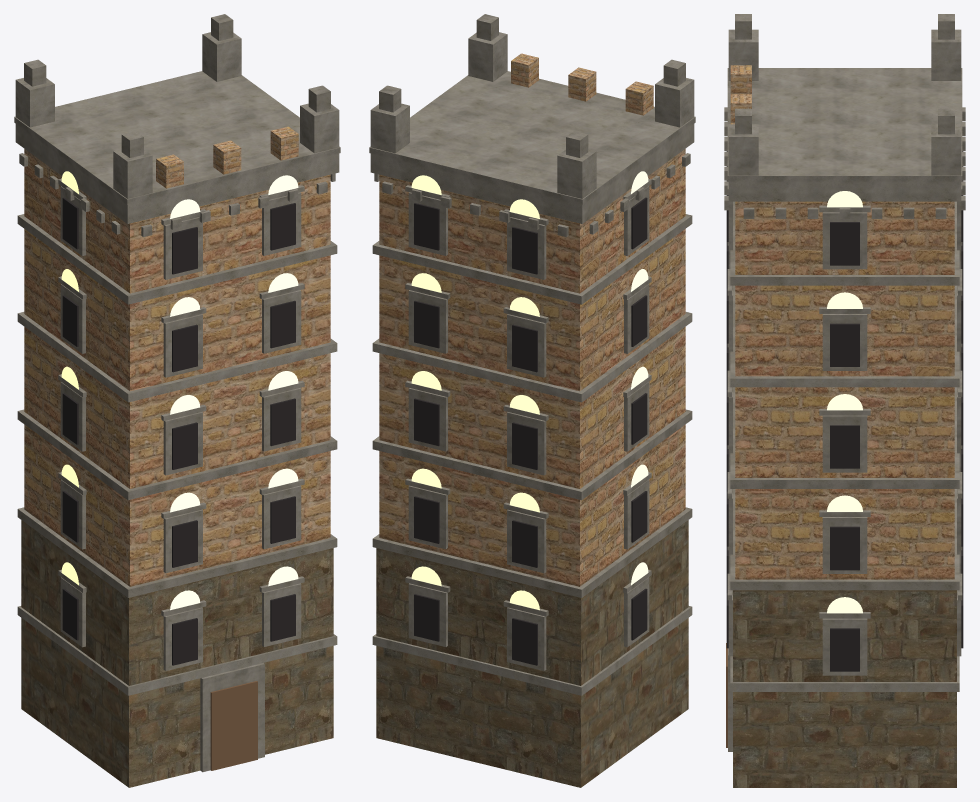
The model's file is sanaa_house_a.glb.
3 views of the same model, side by side, from view 1: azimuth 30°, elevation 25°; view 2: azimuth 150°, elevation 25°; view 3: azimuth 270°, elevation 25° (orthographic). The views are drawn at different scales.
Parts seen in each view (by area): view 1: sanaa_house_a; view 2: sanaa_house_a; view 3: sanaa_house_a.
Boxes of the visible parts, left/top/right/bottom form: sanaa_house_a: left=14, top=14, right=340, bottom=787; sanaa_house_a: left=369, top=14, right=695, bottom=787; sanaa_house_a: left=724, top=14, right=965, bottom=787.
Size of the model in its own units: 2.46 by 6.94 by 2.26.
6 materials, 3 textured.
